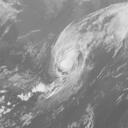cyclone: (52, 26, 88, 81)
